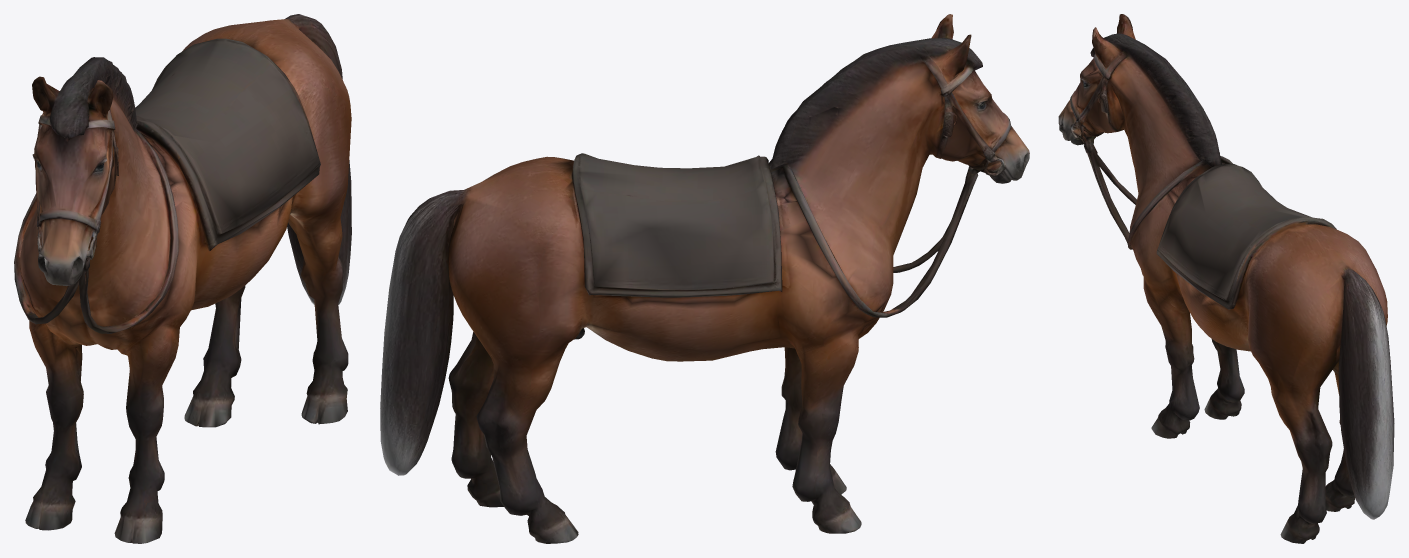
File: horse_lod0.glb
3 renders of one model, left to right at view 1: azimuth 30°, elevation 25°; view 2: azimuth 150°, elevation 25°; view 3: azimuth 270°, elevation 25°, orthographic. The views are drawn at different scales.
Visible parts, largest first — view 1: node_0; view 2: node_0; view 3: node_0.
Boxes of the visible parts, x1,y1,x2,y2 form: node_0: (14,14,351,543); node_0: (380,14,1029,543); node_0: (1058,14,1394,543).
Bounding box in the file's own units: 0.8464 × 0.8345 × 0.6676.
1 material, 1 textured.
